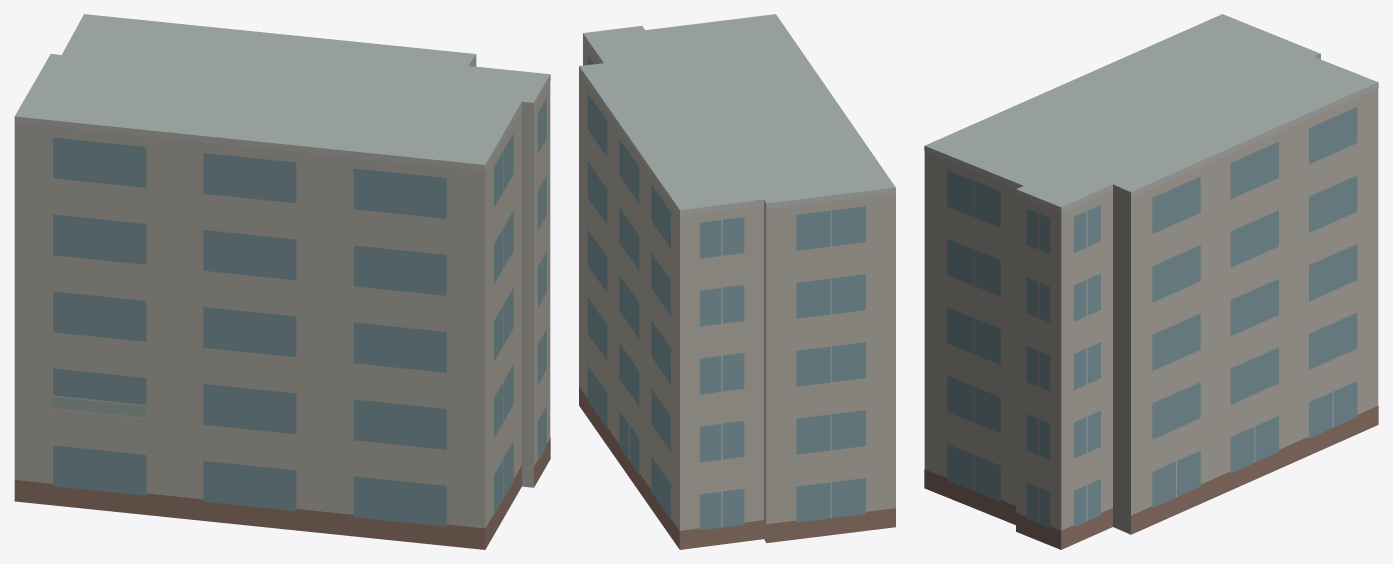
File: survey-upis-32628480.glb
3 renders of one model, left to right at view 1: azimuth 30°, elevation 25°; view 2: azimuth 150°, elevation 25°; view 3: azimuth 270°, elevation 25°, orthographic. The views are drawn at different scales.
Visible parts, largest first — view 1: survey-upis-32628480.tmp; view 2: survey-upis-32628480.tmp; view 3: survey-upis-32628480.tmp.
Part boxes in pixels (x1,y1,x2,y2): survey-upis-32628480.tmp: (14,14,550,549); survey-upis-32628480.tmp: (579,14,895,549); survey-upis-32628480.tmp: (924,14,1378,549).
Size of the model in its own units: 17.68 by 14.6 by 17.54.
